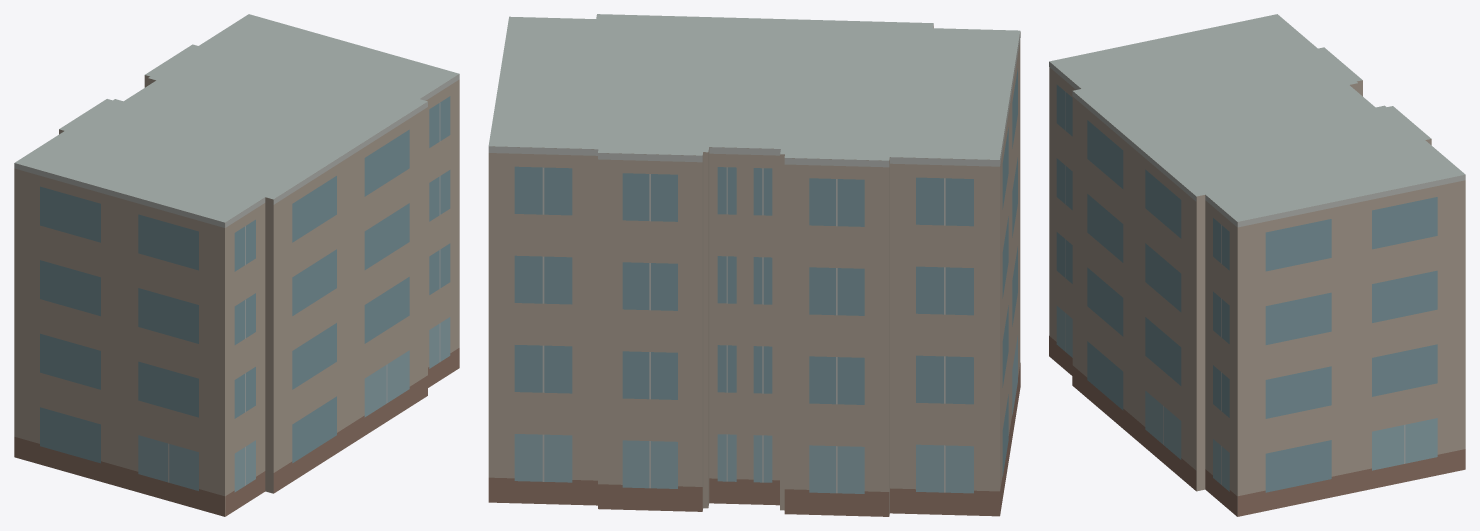
The model's file is survey-upis-32739658.glb.
3 views of the same model, side by side, from view 1: azimuth 30°, elevation 25°; view 2: azimuth 150°, elevation 25°; view 3: azimuth 270°, elevation 25° (orthographic). The views are drawn at different scales.
Parts seen in each view (by area): view 1: survey-upis-32739658.tmp; view 2: survey-upis-32739658.tmp; view 3: survey-upis-32739658.tmp.
Part boxes in pixels (x1,y1,x2,y2): survey-upis-32739658.tmp: (14,14,459,516); survey-upis-32739658.tmp: (488,14,1020,516); survey-upis-32739658.tmp: (1049,14,1465,516).
Bounding box in the file's own units: 19.75 × 13.05 × 16.72.
